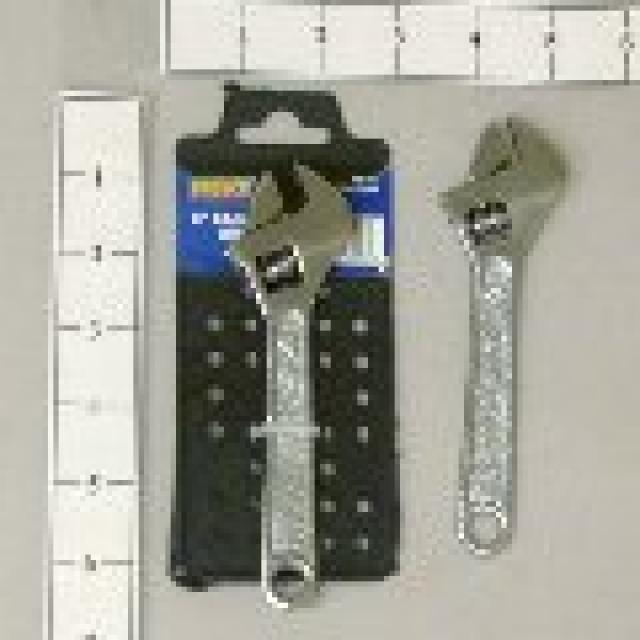wrench: (214, 154, 364, 615), (425, 104, 571, 566)
